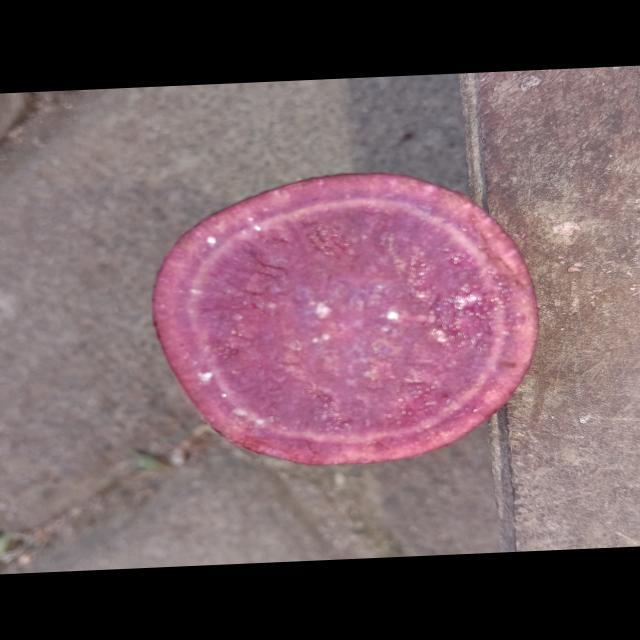Healthy Sweet Potato: (153, 174, 538, 465)
